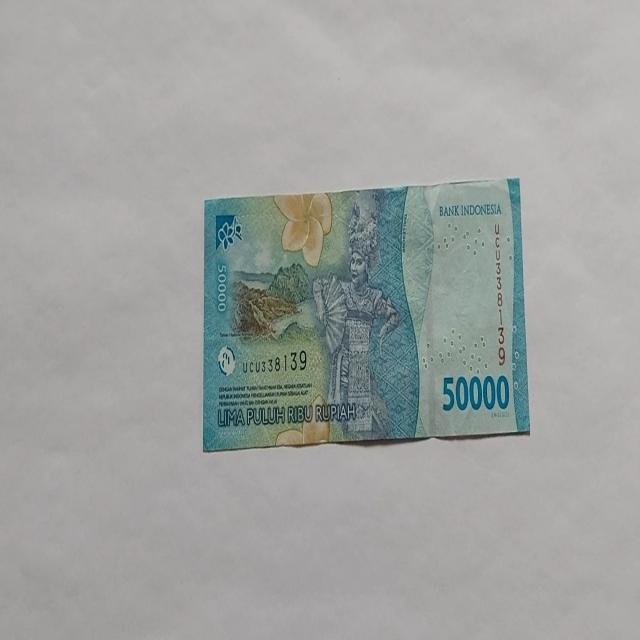lima puluh ribu rupiah: (202, 176, 530, 452), (311, 196, 400, 442)
